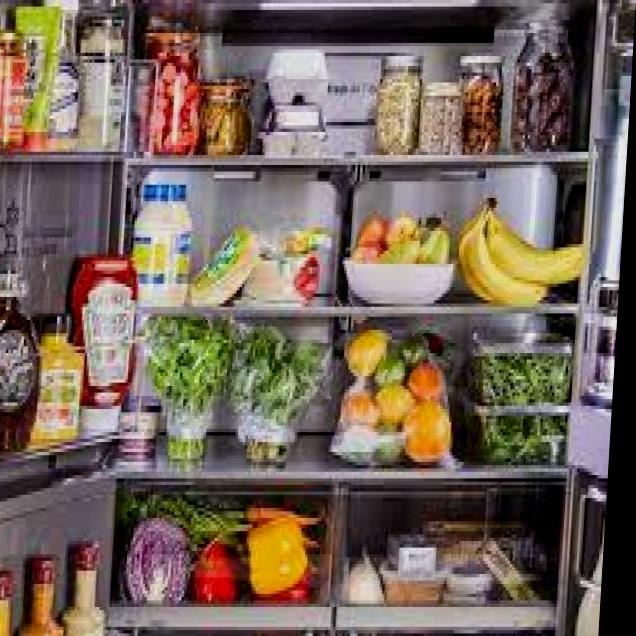bananas: (447, 176, 594, 332)
peppers: (181, 524, 325, 616)
spinach: (462, 335, 585, 475)
